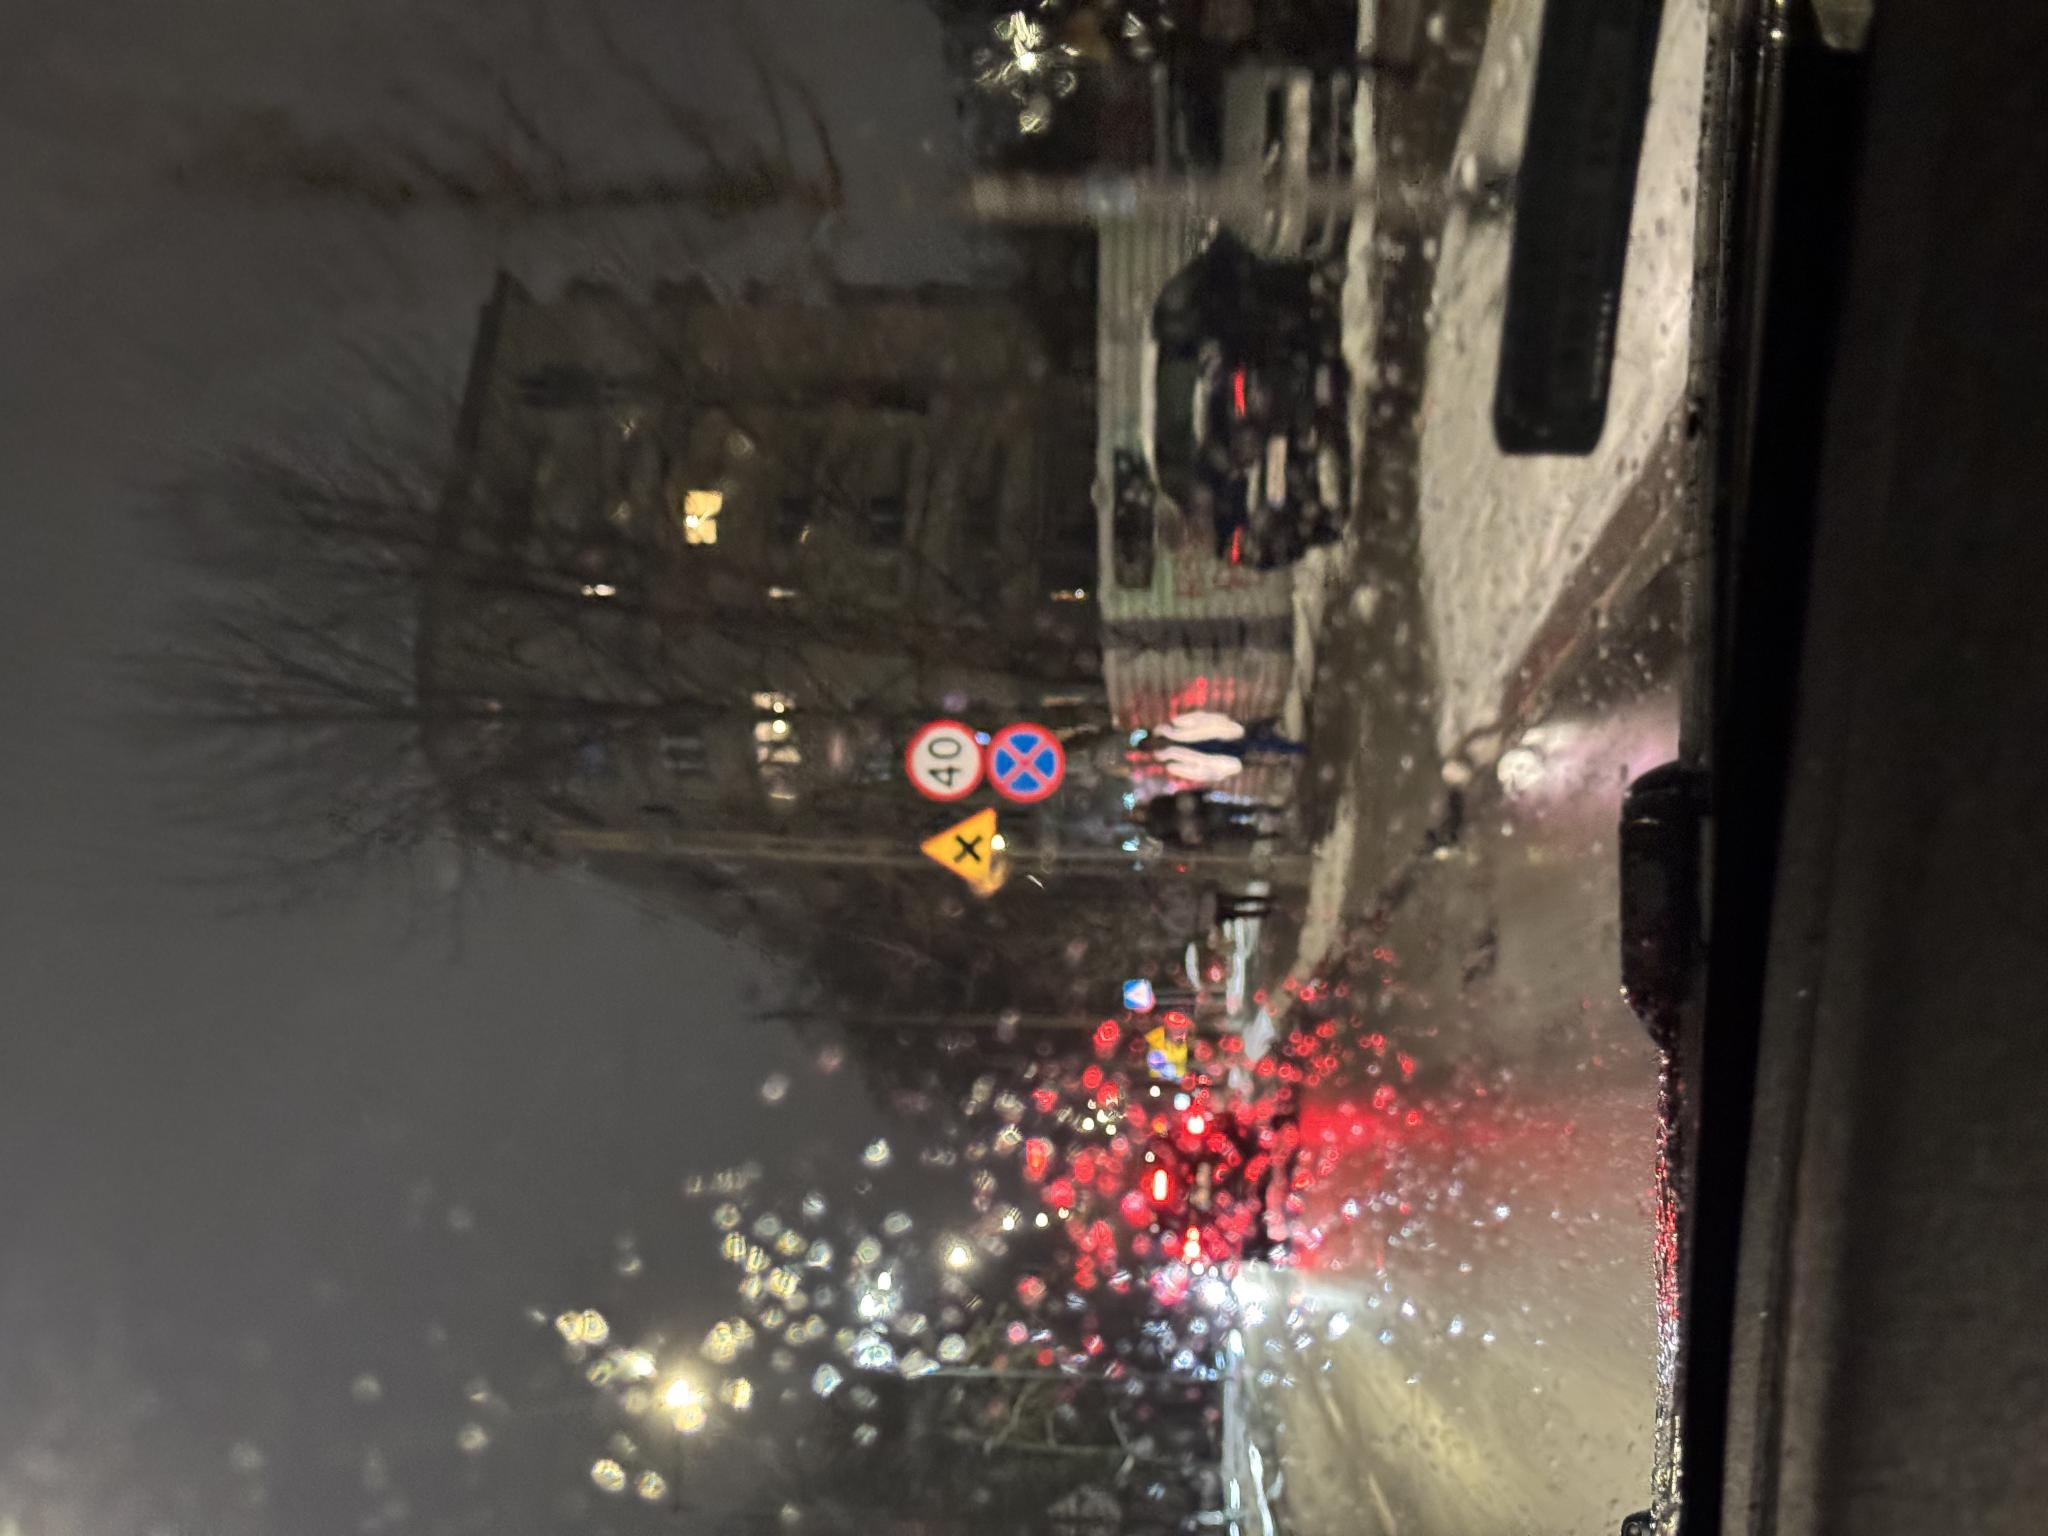prohibitory: (734, 904, 818, 986), (734, 987, 814, 1064)
warning: (650, 918, 728, 996)
